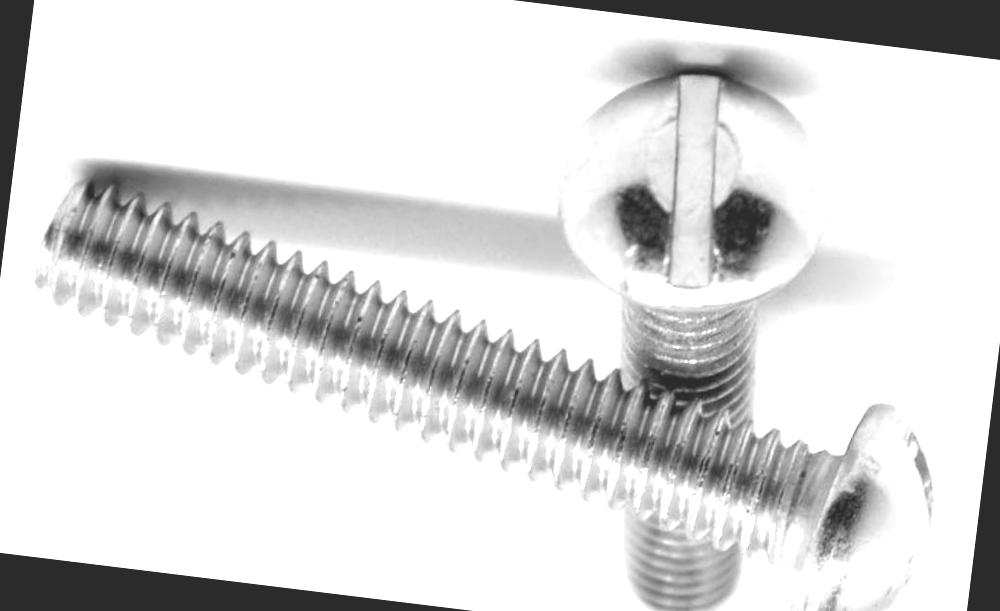slotted: (540, 48, 840, 318)
